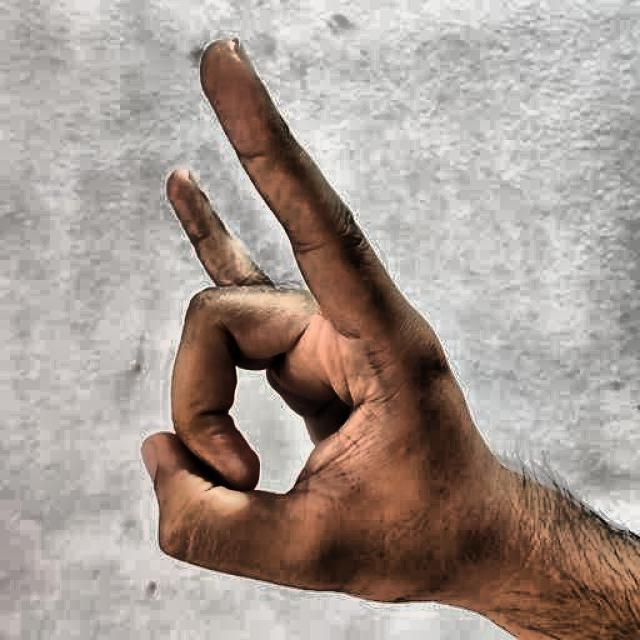Cha: (85, 18, 524, 632)
